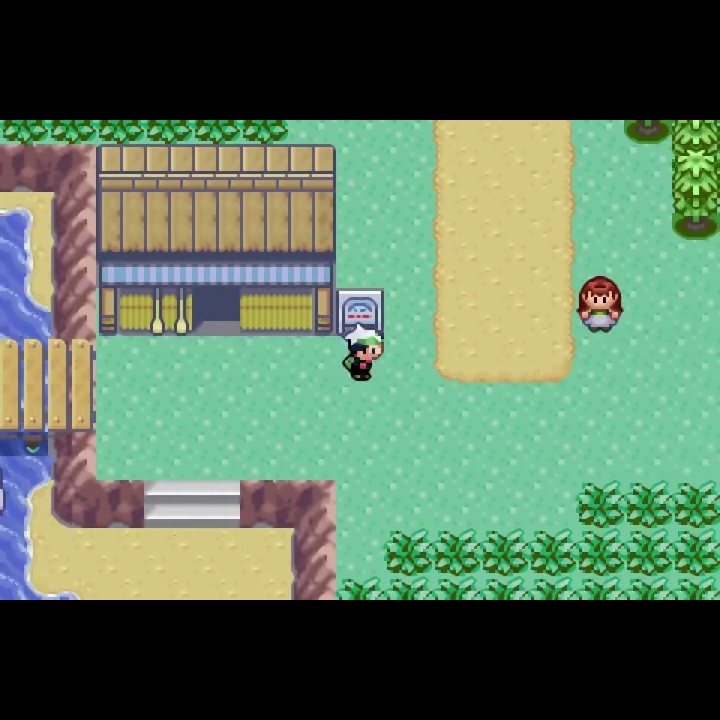grass: (528, 525, 577, 577), (670, 480, 720, 530), (576, 527, 626, 577), (480, 526, 528, 577), (672, 527, 720, 577), (384, 527, 432, 576), (433, 527, 480, 577), (576, 481, 624, 529), (625, 529, 673, 577), (625, 481, 671, 529), (433, 575, 483, 600), (96, 120, 146, 144), (48, 120, 98, 144), (387, 575, 434, 600), (193, 120, 241, 144), (145, 120, 193, 144), (531, 576, 579, 600), (674, 575, 720, 600), (241, 120, 288, 144), (579, 576, 626, 600), (337, 578, 388, 600), (1, 120, 49, 143), (627, 577, 675, 600), (484, 576, 529, 600)
house: (93, 142, 336, 338)
npc: (574, 276, 630, 334), (340, 322, 387, 385)
wall: (672, 151, 720, 240), (672, 119, 720, 152), (623, 120, 672, 148)
